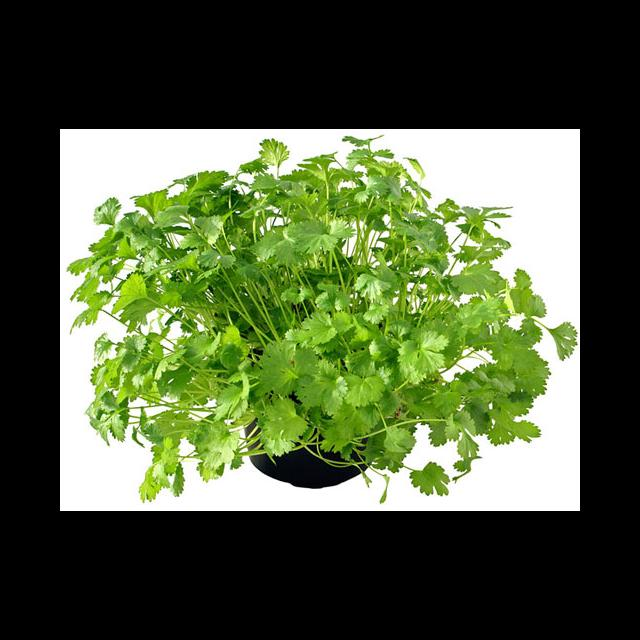cilantro: (66, 136, 580, 503)
